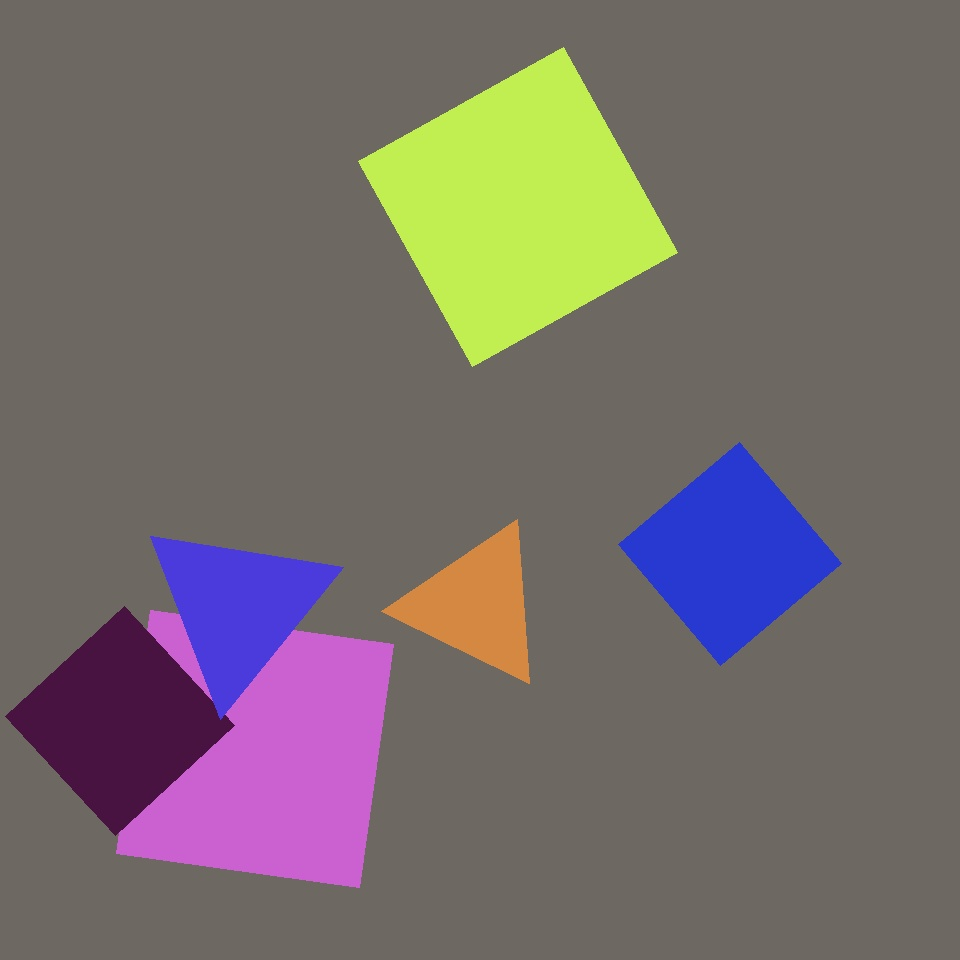circle: (54, 180, 323, 466), (108, 129, 341, 359), (142, 516, 334, 700), (402, 523, 550, 687)
square: (358, 48, 678, 366), (117, 610, 394, 888), (5, 606, 234, 836), (618, 442, 841, 665)
